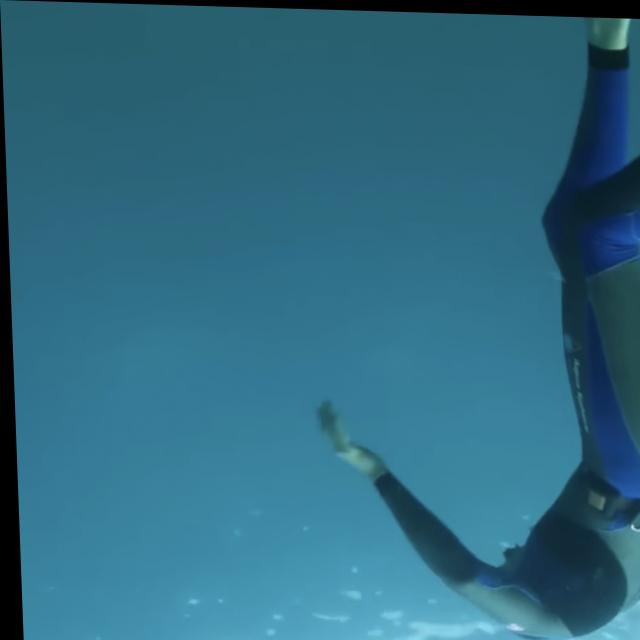human: (297, 7, 640, 640)
